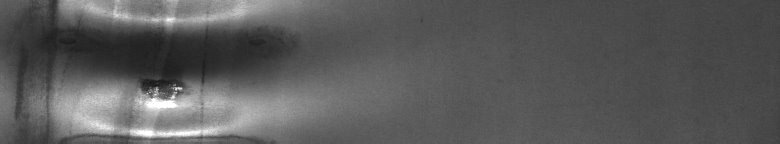ke: (15, 4, 239, 136)
